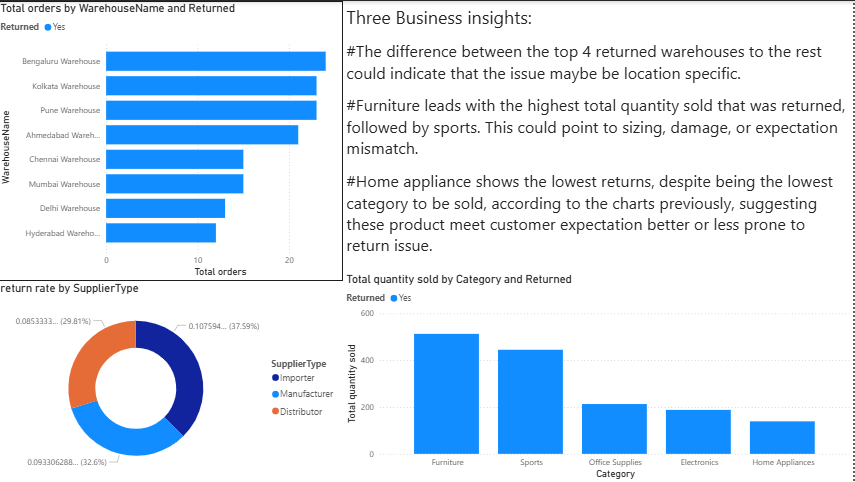

What the dashboard file says about the page in this screenshot:
{"tool":"powerbi","page":{"name":"Retuened Analysis","canvas":[1280,720],"ordinal":9},"visuals":[{"type":"clusteredColumnChart","fields":{"Category":["Product.Category"],"Y":["Orders (1).Total quantity sold"],"Series":["Orders (1).Returned"]},"box":[516.7,405,763.3,315],"z":0},{"type":"barChart","fields":{"Category":["Warehouse.WarehouseName"],"Y":["Orders (1).Total orders"],"Series":["Orders (1).Returned"]},"box":[0,0,516.7,418.3],"z":1000},{"type":"donutChart","fields":{"Category":["Supplier.SupplierType"],"Y":["Orders (1).return rate"]},"box":[0,418.3,516.7,301.7],"z":2000},{"type":"textbox","box":[517,0,763,405],"z":3000}]}

Visuals, with their boxes in screenshot pixels (x1, y1, x2, y2), scaled from the page's 1280x720 canvas onto the 855x482 screenshot:
clusteredColumnChart - Product.Category x Orders (1).Total quantity sold: 345, 271, 854, 481
barChart - Warehouse.WarehouseName x Orders (1).Total orders: 0, 0, 345, 280
donutChart - Supplier.SupplierType x Orders (1).return rate: 0, 280, 345, 481
textbox: 345, 0, 854, 271
